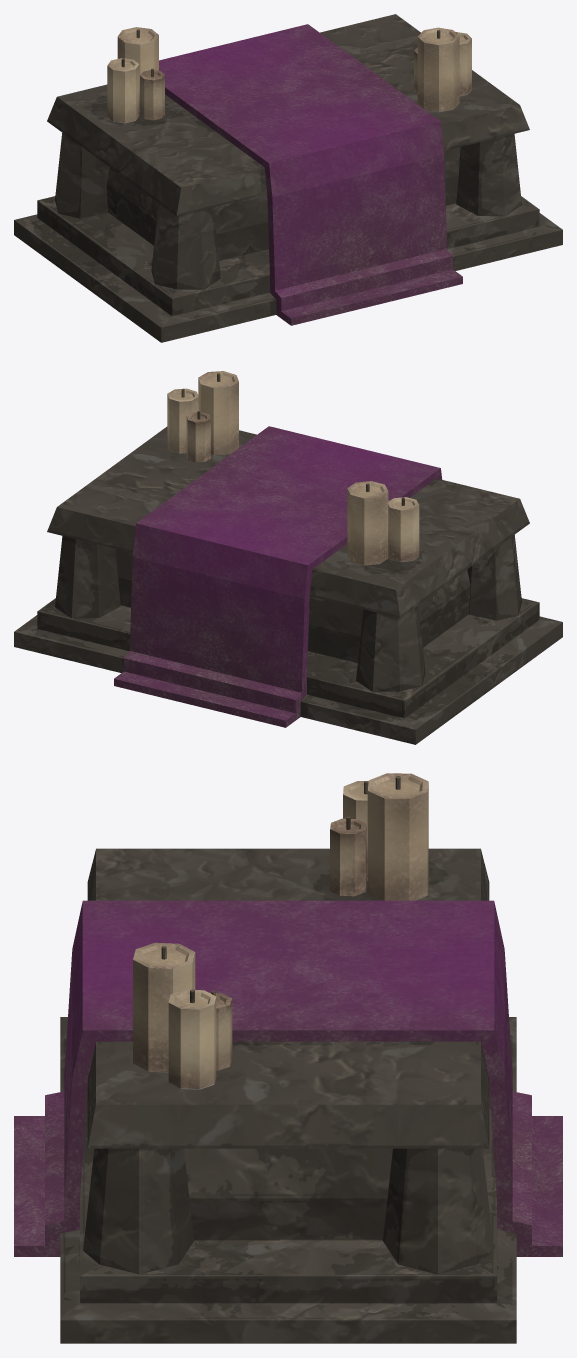
Rendered from SM_PRP_TableWithClothCandles.fbx.
3 views of the same model, one above another, from view 1: azimuth 30°, elevation 25°; view 2: azimuth 150°, elevation 25°; view 3: azimuth 270°, elevation 25° (orthographic). The views are drawn at different scales.
Parts seen in each view (by area): view 1: m_TableCloth_low; view 2: m_TableCloth_low; view 3: m_TableCloth_low.
Boxes of the visible parts, box(x1,y1,x2,y2) form: m_TableCloth_low: box(14, 14, 562, 342); m_TableCloth_low: box(14, 371, 562, 744); m_TableCloth_low: box(14, 773, 562, 1343).
Size of the model in its own units: 468 by 236 by 358.
1 material, 1 textured.
